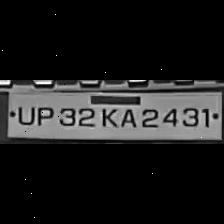1: (203, 101, 221, 129)
2: (76, 102, 96, 128), (138, 102, 158, 127)
3: (56, 102, 76, 127), (179, 104, 199, 128)
4: (158, 102, 178, 127)
A: (117, 104, 137, 128)
K: (99, 104, 119, 128)
P: (31, 103, 53, 127)
U: (14, 100, 34, 125)
